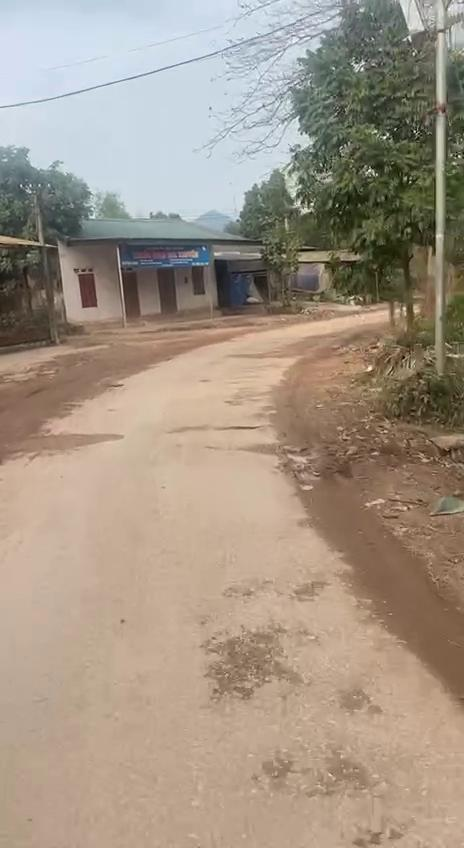pothole: (205, 629, 290, 704)
